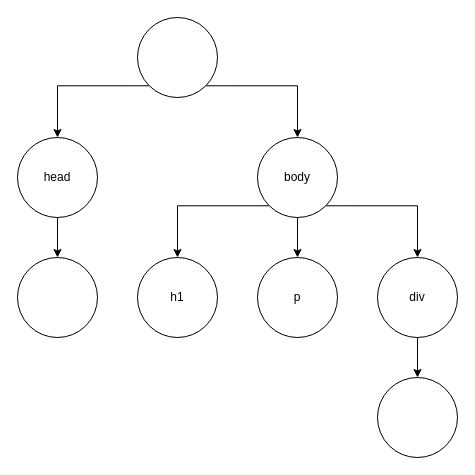
Some shapes in this 475 by 475 pixel diagram are drawn without their labels. Here are the shapes that lost their labels. From the top down, the box of each, then its label:
(136, 16, 218, 98): html
(16, 256, 98, 338): title
(376, 376, 458, 458): span
